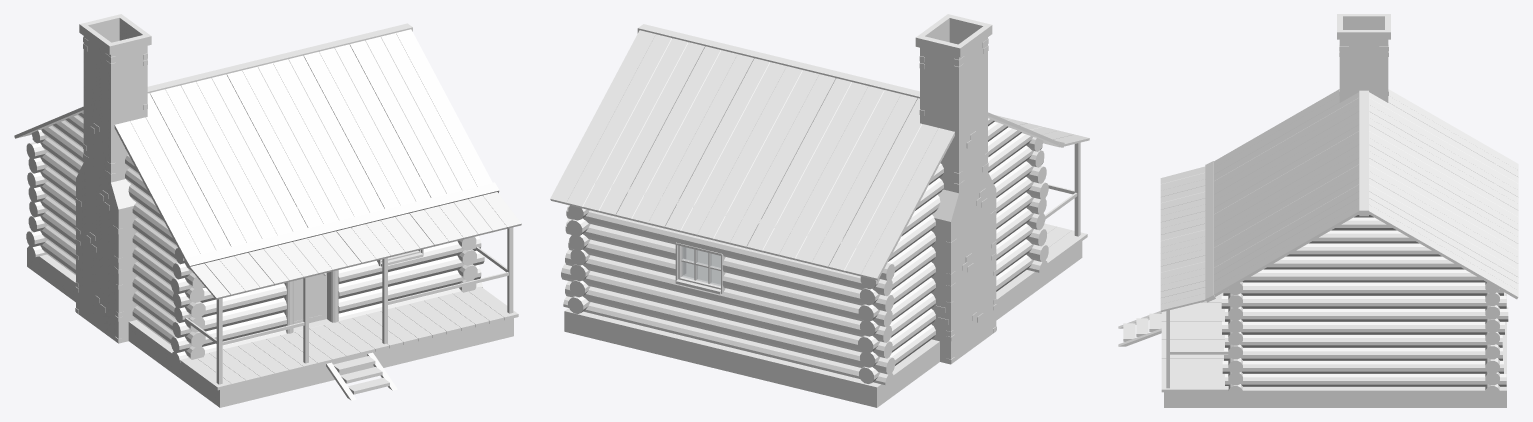
File: Bld_Log_Cabin_01.glb
3 renders of one model, left to right at view 1: azimuth 30°, elevation 25°; view 2: azimuth 150°, elevation 25°; view 3: azimuth 270°, elevation 25°, orthographic. The views are drawn at different scales.
Parts seen in each view (by area): view 1: Bld_Log_Cabin_01, Bld_Log_Cabin_Door_01; view 2: Bld_Log_Cabin_01, (_ignore)_Bld_Log_Cabin_Windows_01; view 3: Bld_Log_Cabin_01.
Boxes of the visible parts, x1,y1,x2,y2 form: Bld_Log_Cabin_01: (14, 14, 521, 407); Bld_Log_Cabin_Door_01: (293, 273, 326, 324); Bld_Log_Cabin_01: (550, 14, 1089, 407); (_ignore)_Bld_Log_Cabin_Windows_01: (682, 247, 720, 285); Bld_Log_Cabin_01: (1118, 14, 1518, 407).
Bounding box in the file's own units: 8.22 × 7.3 × 10.15.
2 materials, 1 textured.
